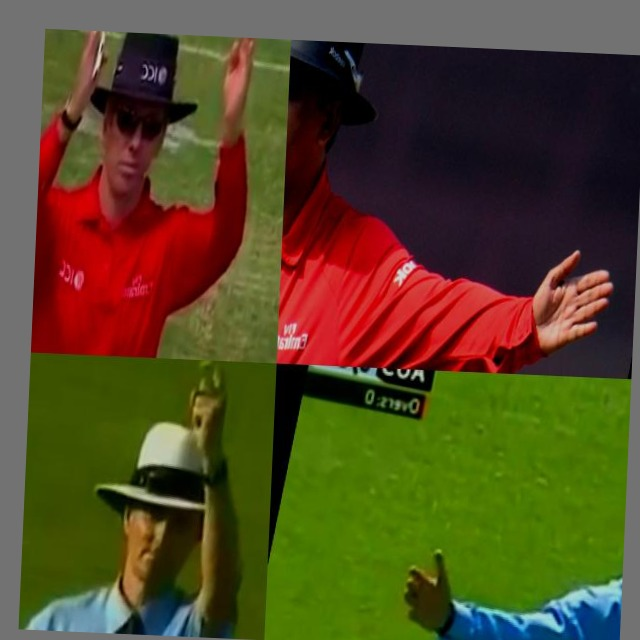No_Ball: (277, 40, 640, 379), (354, 393, 630, 640)
Out: (18, 352, 277, 640)
Six: (31, 29, 291, 363)
